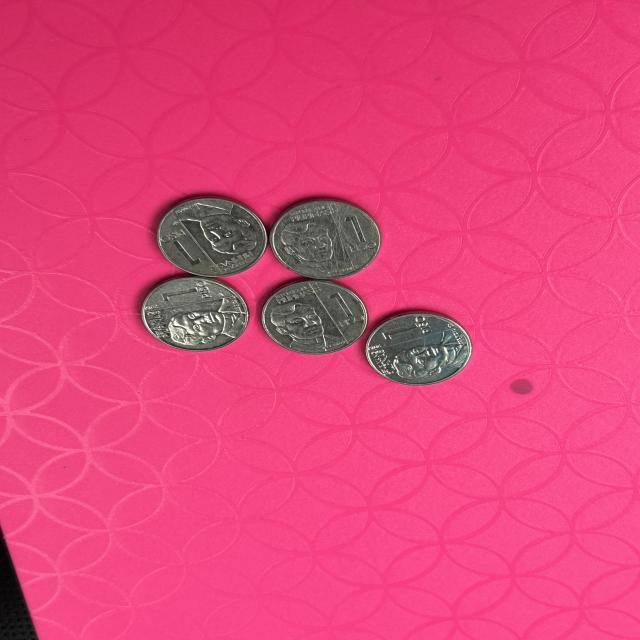1_New_Front: (337, 208, 376, 261), (161, 232, 207, 272), (159, 284, 225, 305), (322, 293, 360, 329), (379, 319, 430, 338)
